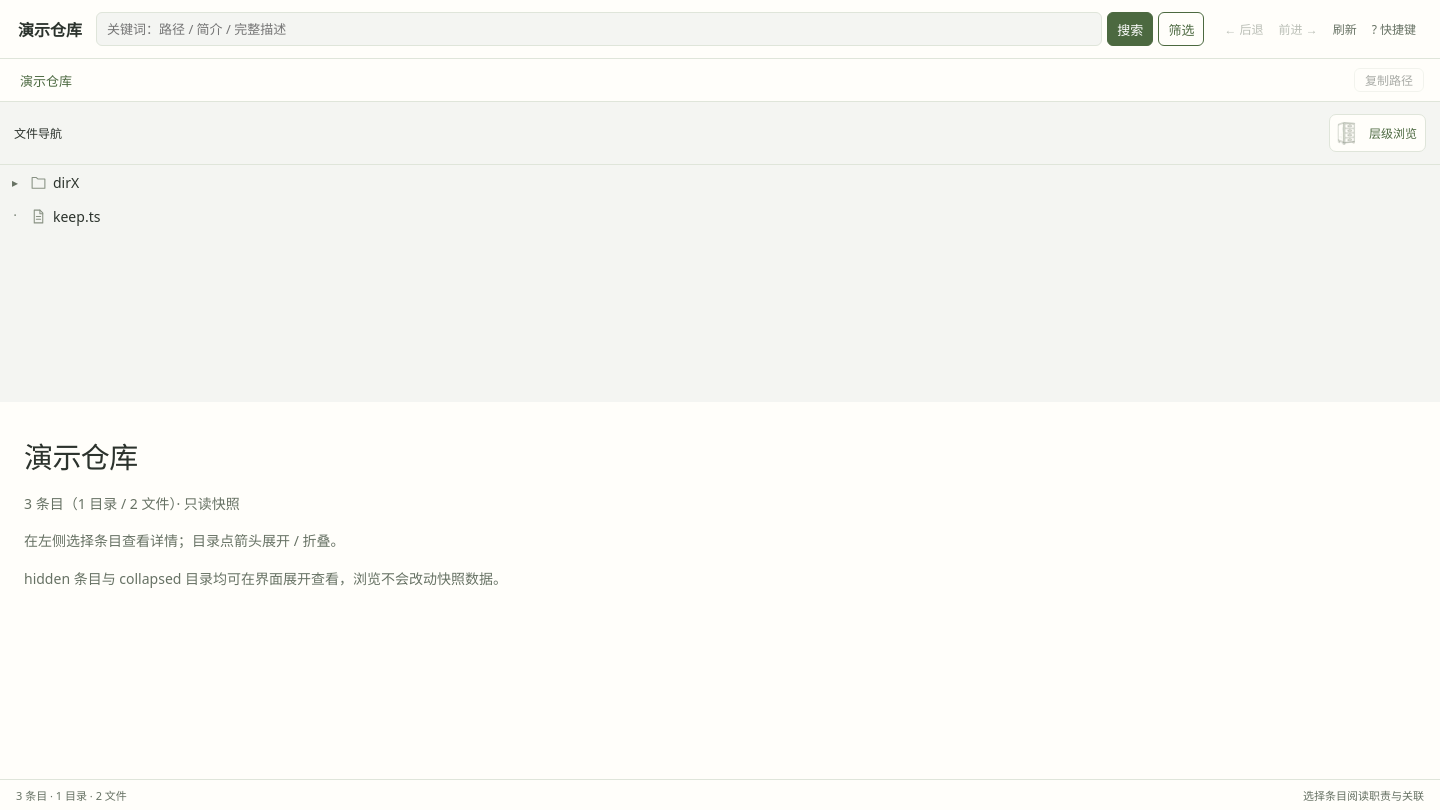
Test case: 浏览布局与控制层页面契约 › 刷新重建目录遇到旧世代不能提交混合缓存
Expected: the text "dirX" is shown, [53, 172, 79, 192]
Click the button named "展开 dirX": (15, 182) [6, 174, 24, 190]
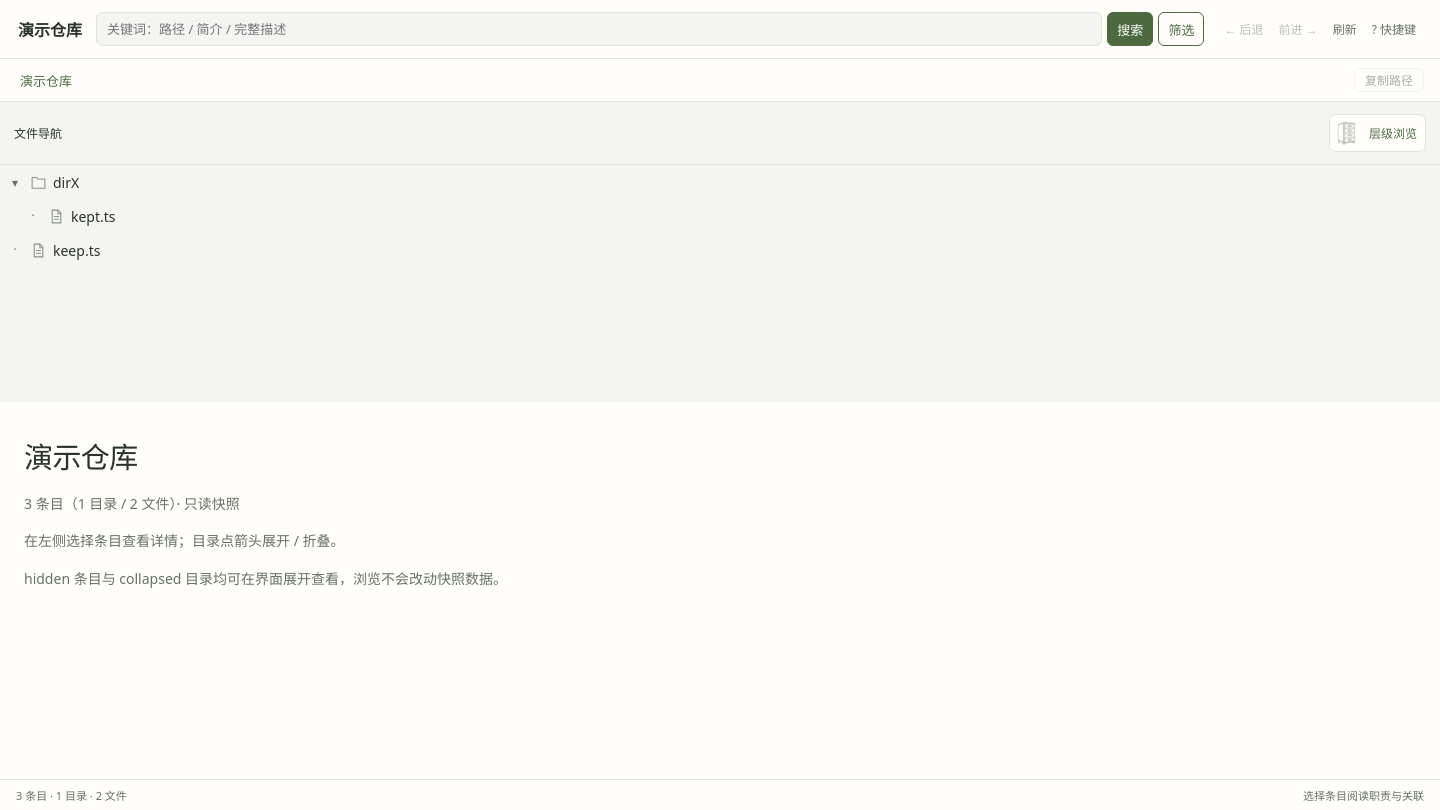
Expected: the text "kept.ts" is shown, [71, 206, 116, 226]
Click the button "刷新": (1345, 29) [1327, 14, 1363, 44]
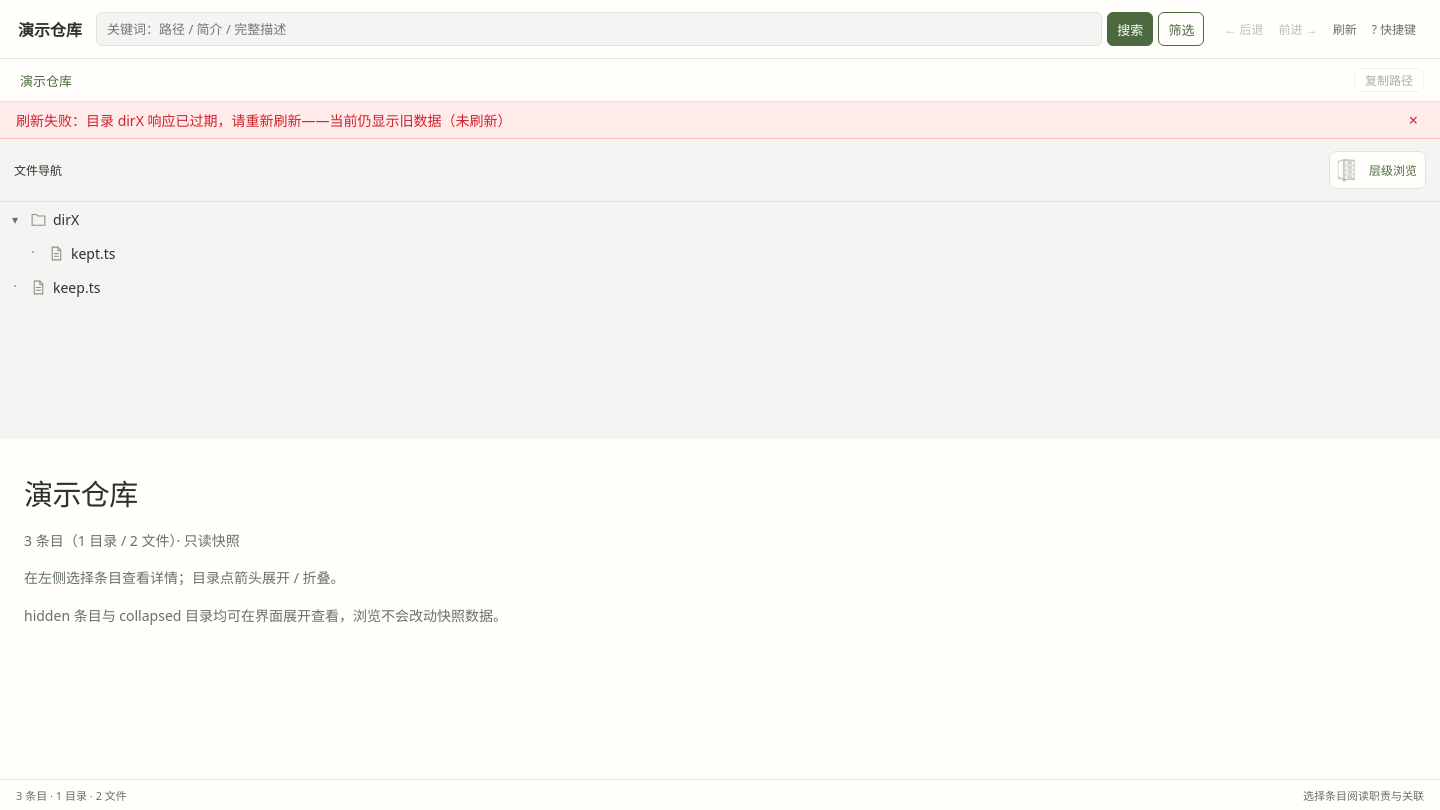
Expected: the text "kept.ts" is shown, [71, 244, 116, 262]
Expected: the text "刷新失败：目录 dirX 响应已过期，请重新刷新——当前仍显示旧数据（未刷新）" is shown, [16, 110, 512, 130]
